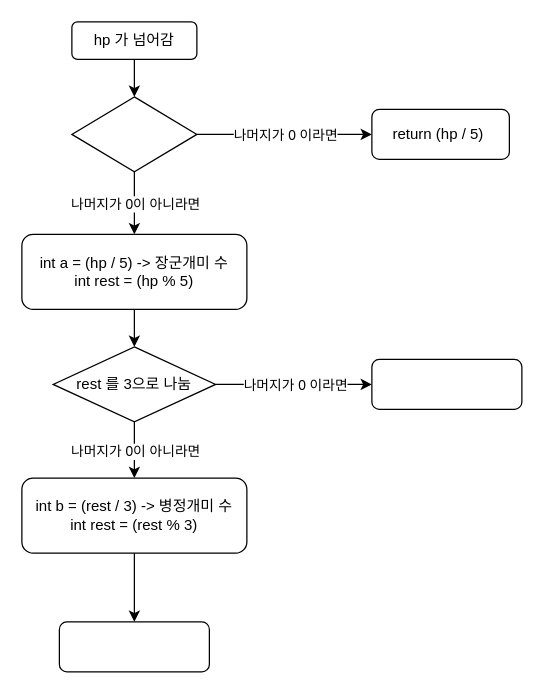
This 544x694 diagram has some shape labels left out. The shapes that lost their labels are listed below. From the top down, each one's box as (x1, y1, x2, y2) in pixels, then its label:
(71, 96, 197, 172): 5로 나눔
(371, 358, 522, 409): return (a + rest / 3)
(58, 621, 209, 672): return (a + b + rest)
